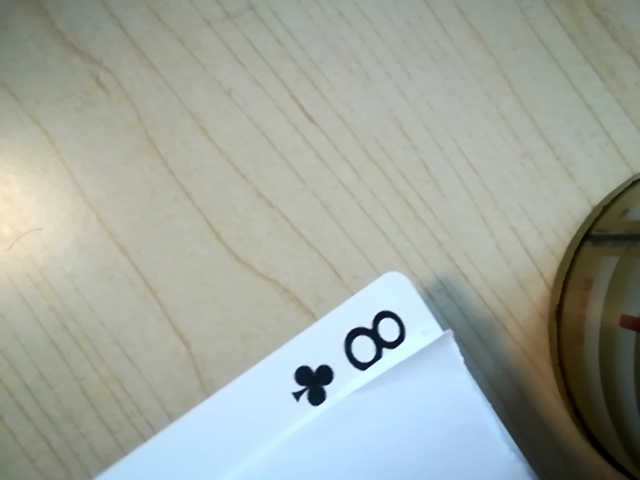mh 8: (287, 302, 431, 405)
